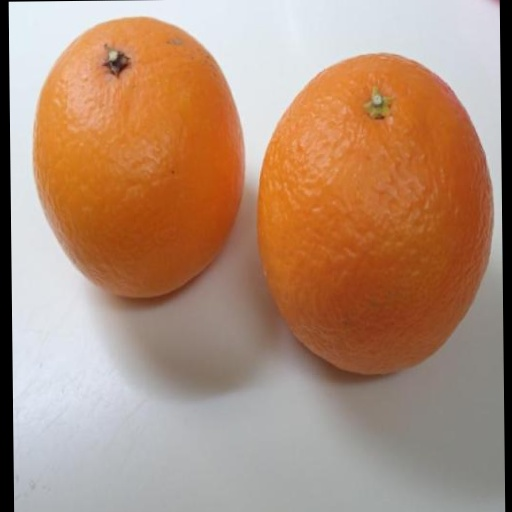fruit: (257, 55, 492, 373), (33, 18, 243, 296)
